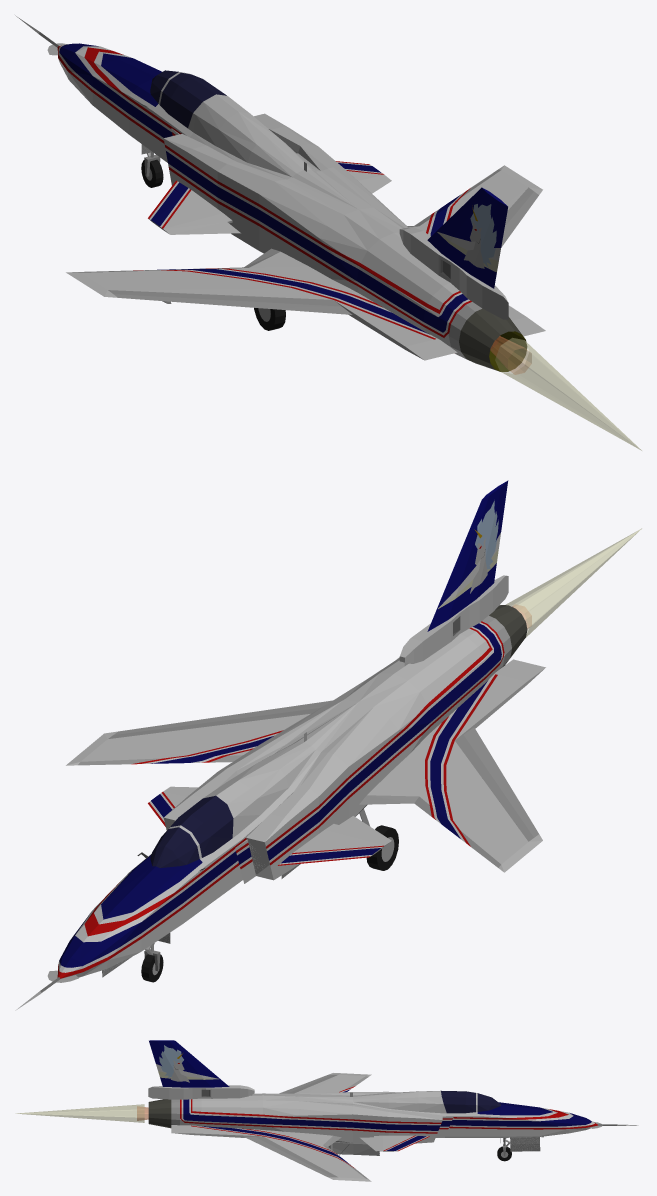
The picture shows the model from 3 angles, top to bottom: view 1: azimuth 30°, elevation 25°; view 2: azimuth 150°, elevation 25°; view 3: azimuth 270°, elevation 25°; orthographic projection. The views are drawn at different scales.
Visible parts, largest first — view 1: ShapeIndexedFaceSet_ShapeIndexedFaceSet.001, ShapeIndexedFaceSet.029_ShapeIndexedFaceSet.030, ShapeIndexedFaceSet.001_ShapeIndexedFaceSet.002, ShapeIndexedFaceSet.095_ShapeIndexedFaceSet.096, ShapeIndexedFaceSet.003_ShapeIndexedFaceSet.004, ShapeIndexedFaceSet.002_ShapeIndexedFaceSet.003, ShapeIndexedFaceSet.011_ShapeIndexedFaceSet.012, ShapeIndexedFaceSet.005_ShapeIndexedFaceSet.006, ShapeIndexedFaceSet.018_ShapeIndexedFaceSet.019, ShapeIndexedFaceSet.004_ShapeIndexedFaceSet.005, ShapeIndexedFaceSet.064_ShapeIndexedFaceSet.065, ShapeIndexedFaceSet.030_ShapeIndexedFaceSet.031 (+9 smaller); view 2: ShapeIndexedFaceSet_ShapeIndexedFaceSet.001, ShapeIndexedFaceSet.029_ShapeIndexedFaceSet.030, ShapeIndexedFaceSet.001_ShapeIndexedFaceSet.002, ShapeIndexedFaceSet.005_ShapeIndexedFaceSet.006, ShapeIndexedFaceSet.003_ShapeIndexedFaceSet.004, ShapeIndexedFaceSet.002_ShapeIndexedFaceSet.003, ShapeIndexedFaceSet.095_ShapeIndexedFaceSet.096, ShapeIndexedFaceSet.011_ShapeIndexedFaceSet.012, ShapeIndexedFaceSet.018_ShapeIndexedFaceSet.019, ShapeIndexedFaceSet.030_ShapeIndexedFaceSet.031, ShapeIndexedFaceSet.064_ShapeIndexedFaceSet.065, ShapeIndexedFaceSet.034_ShapeIndexedFaceSet.035 (+4 smaller); view 3: ShapeIndexedFaceSet_ShapeIndexedFaceSet.001, ShapeIndexedFaceSet.001_ShapeIndexedFaceSet.002, ShapeIndexedFaceSet.029_ShapeIndexedFaceSet.030, ShapeIndexedFaceSet.003_ShapeIndexedFaceSet.004, ShapeIndexedFaceSet.002_ShapeIndexedFaceSet.003, ShapeIndexedFaceSet.095_ShapeIndexedFaceSet.096, ShapeIndexedFaceSet.011_ShapeIndexedFaceSet.012, ShapeIndexedFaceSet.018_ShapeIndexedFaceSet.019, ShapeIndexedFaceSet.005_ShapeIndexedFaceSet.006, ShapeIndexedFaceSet.004_ShapeIndexedFaceSet.005, ShapeIndexedFaceSet.069_ShapeIndexedFaceSet.070, ShapeIndexedFaceSet.082_ShapeIndexedFaceSet.083 (+8 smaller).
Part boxes in pixels (x1,y1,x2,y2): ShapeIndexedFaceSet_ShapeIndexedFaceSet.001: (58, 51, 459, 354); ShapeIndexedFaceSet.029_ShapeIndexedFaceSet.030: (66, 165, 542, 353); ShapeIndexedFaceSet.001_ShapeIndexedFaceSet.002: (59, 43, 468, 332); ShapeIndexedFaceSet.095_ShapeIndexedFaceSet.096: (495, 338, 641, 450); ShapeIndexedFaceSet.003_ShapeIndexedFaceSet.004: (57, 45, 471, 337); ShapeIndexedFaceSet.002_ShapeIndexedFaceSet.003: (58, 45, 469, 335); ShapeIndexedFaceSet.011_ShapeIndexedFaceSet.012: (399, 227, 508, 319); ShapeIndexedFaceSet.005_ShapeIndexedFaceSet.006: (150, 70, 226, 128); ShapeIndexedFaceSet.018_ShapeIndexedFaceSet.019: (427, 187, 507, 273); ShapeIndexedFaceSet.004_ShapeIndexedFaceSet.005: (459, 308, 521, 371); ShapeIndexedFaceSet.064_ShapeIndexedFaceSet.065: (163, 190, 240, 234); ShapeIndexedFaceSet.030_ShapeIndexedFaceSet.031: (157, 195, 459, 334); ShapeIndexedFaceSet_ShapeIndexedFaceSet.001: (62, 628, 504, 978); ShapeIndexedFaceSet.029_ShapeIndexedFaceSet.030: (66, 657, 542, 872); ShapeIndexedFaceSet.001_ShapeIndexedFaceSet.002: (59, 623, 501, 967); ShapeIndexedFaceSet.005_ShapeIndexedFaceSet.006: (150, 795, 233, 867); ShapeIndexedFaceSet.003_ShapeIndexedFaceSet.004: (57, 621, 504, 978); ShapeIndexedFaceSet.002_ShapeIndexedFaceSet.003: (58, 622, 503, 972); ShapeIndexedFaceSet.095_ShapeIndexedFaceSet.096: (506, 528, 641, 637); ShapeIndexedFaceSet.011_ShapeIndexedFaceSet.012: (399, 575, 508, 665); ShapeIndexedFaceSet.018_ShapeIndexedFaceSet.019: (427, 480, 508, 631); ShapeIndexedFaceSet.030_ShapeIndexedFaceSet.031: (151, 681, 487, 838); ShapeIndexedFaceSet.064_ShapeIndexedFaceSet.065: (293, 816, 391, 852); ShapeIndexedFaceSet.034_ShapeIndexedFaceSet.035: (78, 755, 500, 867); ShapeIndexedFaceSet_ShapeIndexedFaceSet.001: (180, 1090, 595, 1144); ShapeIndexedFaceSet.001_ShapeIndexedFaceSet.002: (183, 1099, 591, 1130); ShapeIndexedFaceSet.029_ShapeIndexedFaceSet.030: (171, 1073, 371, 1181); ShapeIndexedFaceSet.003_ShapeIndexedFaceSet.004: (180, 1099, 597, 1133); ShapeIndexedFaceSet.002_ShapeIndexedFaceSet.003: (181, 1099, 594, 1132); ShapeIndexedFaceSet.095_ShapeIndexedFaceSet.096: (16, 1104, 144, 1122); ShapeIndexedFaceSet.011_ShapeIndexedFaceSet.012: (148, 1085, 254, 1099); ShapeIndexedFaceSet.018_ShapeIndexedFaceSet.019: (149, 1040, 229, 1087); ShapeIndexedFaceSet.005_ShapeIndexedFaceSet.006: (441, 1091, 500, 1113); ShapeIndexedFaceSet.004_ShapeIndexedFaceSet.005: (148, 1099, 171, 1128); ShapeIndexedFaceSet.069_ShapeIndexedFaceSet.070: (360, 1135, 413, 1151); ShapeIndexedFaceSet.082_ShapeIndexedFaceSet.083: (328, 1142, 379, 1155).
Size of the model in its own units: 82.4 by 43.2 by 204.
